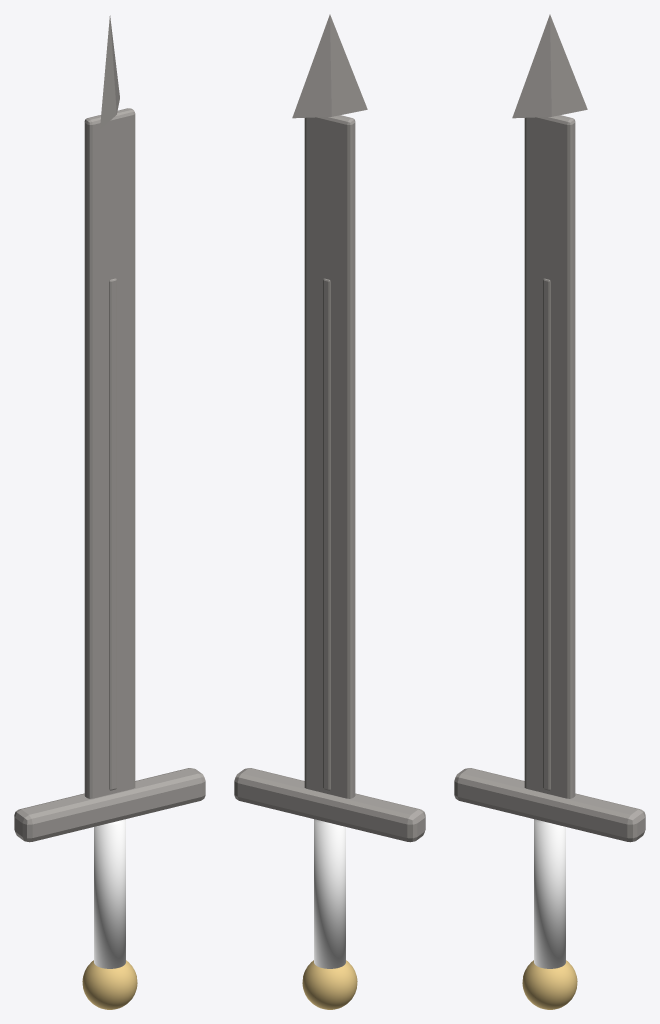
File: kilic_0.glb
The picture shows the model from 3 angles, left to right: view 1: azimuth 30°, elevation 25°; view 2: azimuth 150°, elevation 25°; view 3: azimuth 330°, elevation 25°; orthographic projection.
Visible parts, largest first — view 1: Cube, Cube.002, Cone.001, Cube.001, Sphere, Cone; view 2: Cube, Cube.002, Cone.001, Cube.001, Cone, Sphere; view 3: Cube, Cube.002, Cone.001, Cube.001, Cone, Sphere.
Part boxes in pixels (left/top/right/bottom): Cube: left=84, top=108, right=135, bottom=798; Cube.002: left=14, top=768, right=205, bottom=842; Cone.001: left=94, top=819, right=125, bottom=968; Cube.001: left=109, top=278, right=116, bottom=790; Sphere: left=82, top=960, right=137, bottom=1009; Cone: left=100, top=15, right=119, bottom=129; Cube: left=304, top=115, right=355, bottom=798; Cube.002: left=234, top=768, right=425, bottom=842; Cone.001: left=314, top=819, right=345, bottom=968; Cube.001: left=323, top=278, right=330, bottom=790; Cone: left=292, top=14, right=367, bottom=118; Sphere: left=302, top=960, right=357, bottom=1009; Cube: left=524, top=115, right=575, bottom=798; Cube.002: left=454, top=768, right=645, bottom=842; Cone.001: left=534, top=819, right=565, bottom=968; Cube.001: left=543, top=278, right=550, bottom=790; Cone: left=512, top=14, right=587, bottom=118; Sphere: left=522, top=960, right=577, bottom=1009.
Size of the model in its own units: 0.42 by 2.18 by 0.1105.
